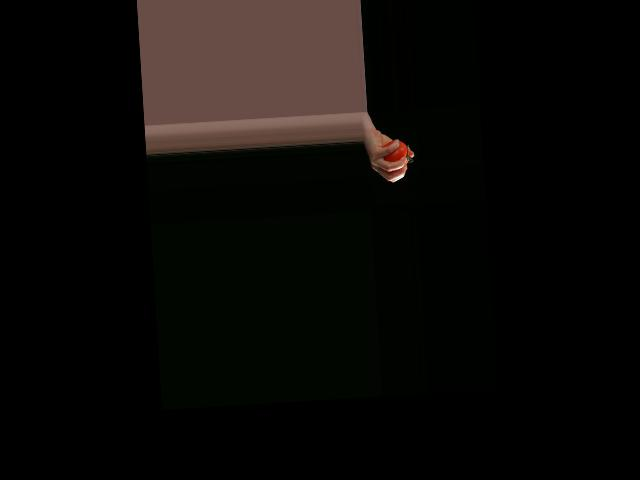tomato: (381, 139, 407, 165)
